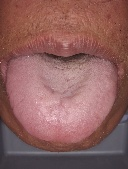tongue: (5, 64, 117, 145)
